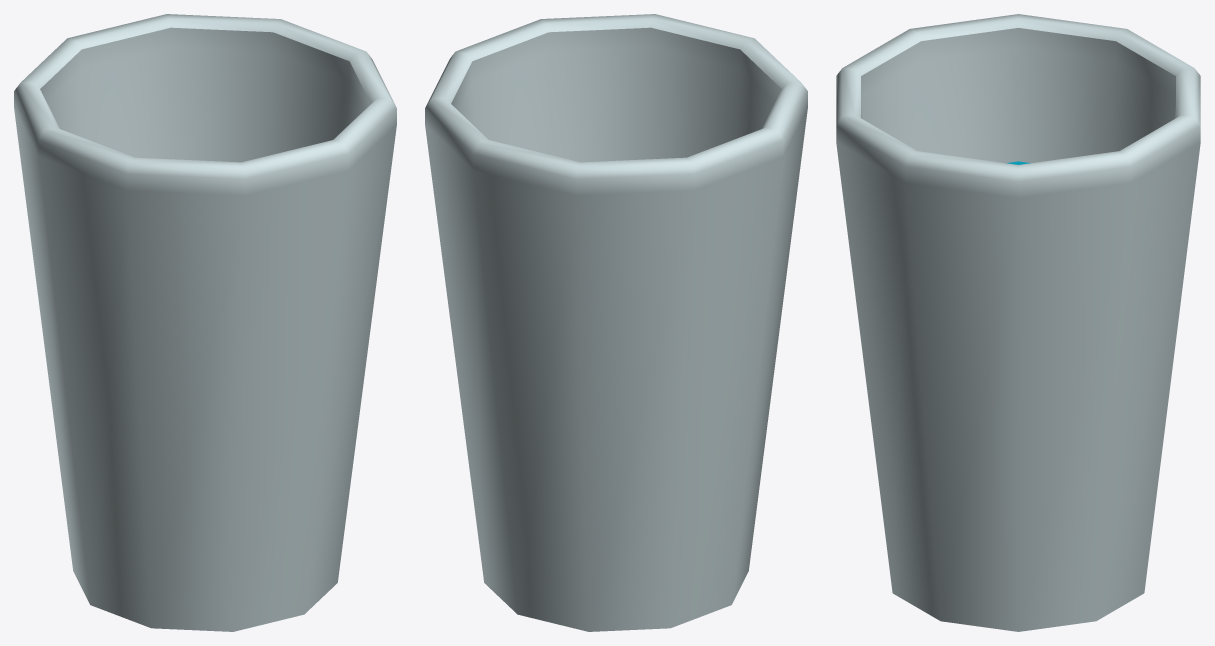
The model's file is Vaso.obj.
3 views of the same model, side by side, from view 1: azimuth 30°, elevation 25°; view 2: azimuth 150°, elevation 25°; view 3: azimuth 270°, elevation 25° (orthographic).
Parts seen in each view (by area): view 1: Vaso; view 2: Vaso; view 3: Vaso.
Boxes of the visible parts, x1=… form: Vaso: x1=14, y1=14, x2=396, y2=631; Vaso: x1=425, y1=14, x2=807, y2=631; Vaso: x1=836, y1=14, x2=1200, y2=631.
Size of the model in its own units: 0.4555 by 0.6345 by 0.4332.
1 material, 1 textured.
